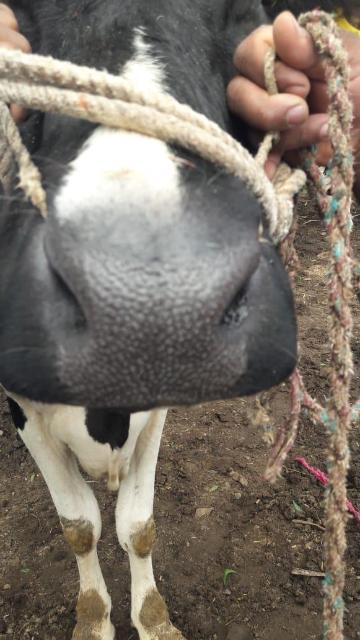Muzzle: (64, 243, 236, 391)
